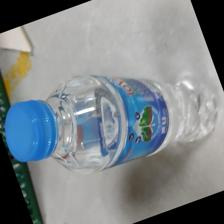Lavie: (2, 70, 219, 189)
